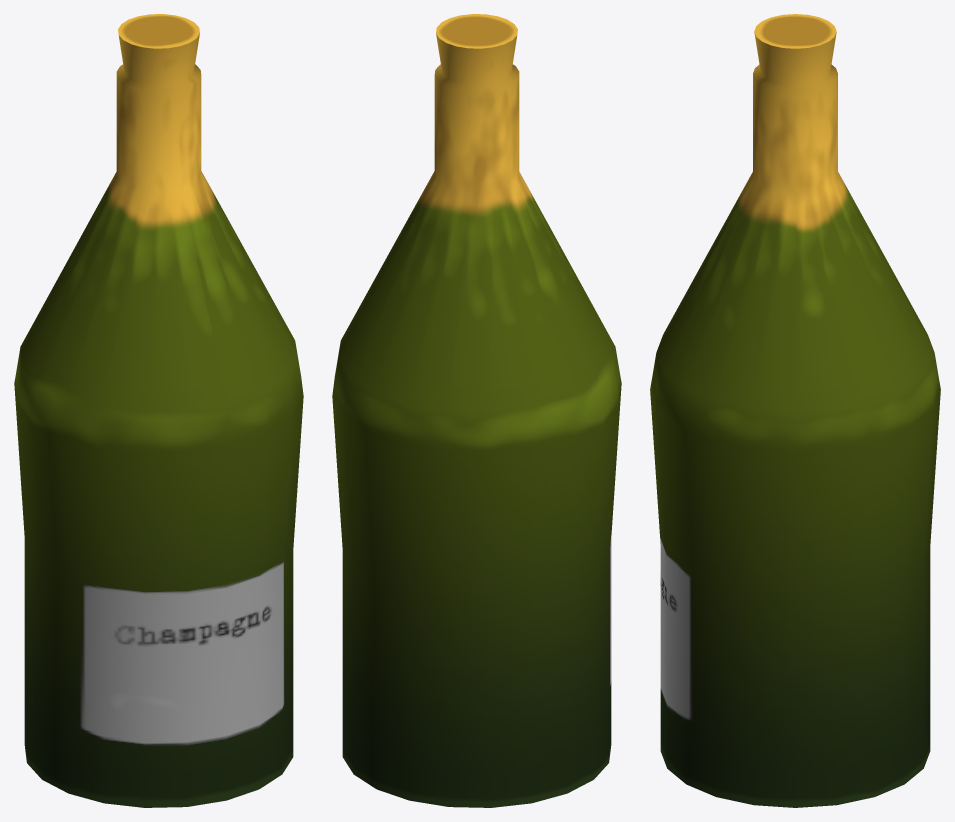
The model's file is champagne.fbx.
The picture shows the model from 3 angles, left to right: view 1: azimuth 30°, elevation 25°; view 2: azimuth 150°, elevation 25°; view 3: azimuth 270°, elevation 25°; orthographic projection.
Parts seen in each view (by area): view 1: champagne; view 2: champagne; view 3: champagne.
Boxes of the visible parts, box(x1,y1,x2,y2) form: champagne: box(14, 14, 303, 807); champagne: box(332, 14, 621, 807); champagne: box(650, 14, 940, 807).
Bounding box in the file's own units: 9.82 × 26.81 × 9.82.
1 material, 1 textured.
